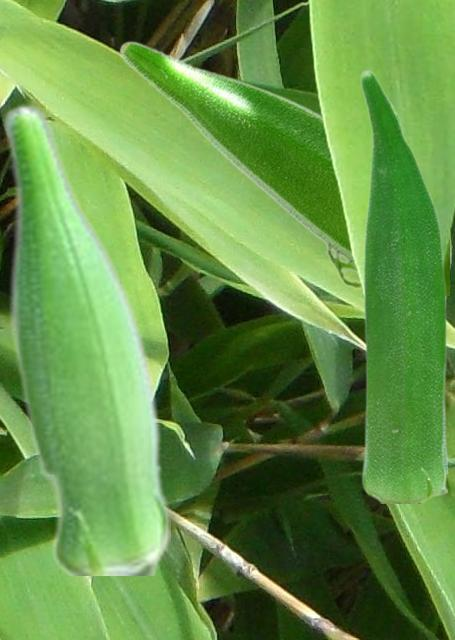okra: (118, 40, 448, 294), (1, 103, 169, 574), (360, 69, 446, 502)
